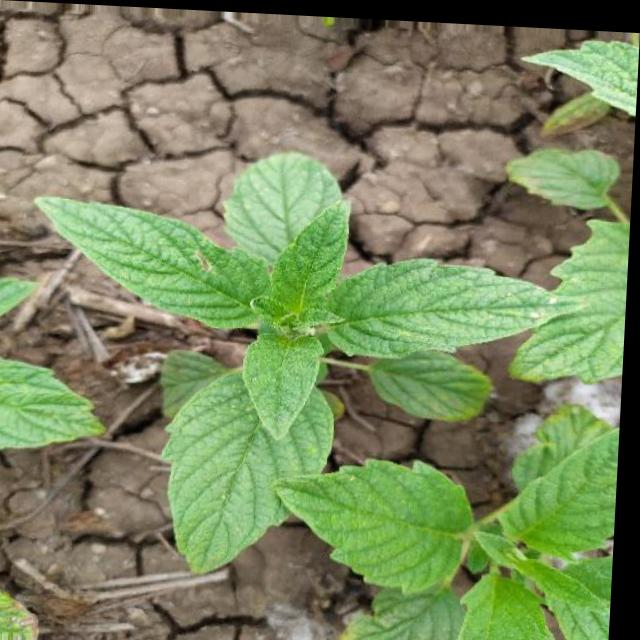crop: (35, 110, 534, 575), (284, 377, 625, 640)
